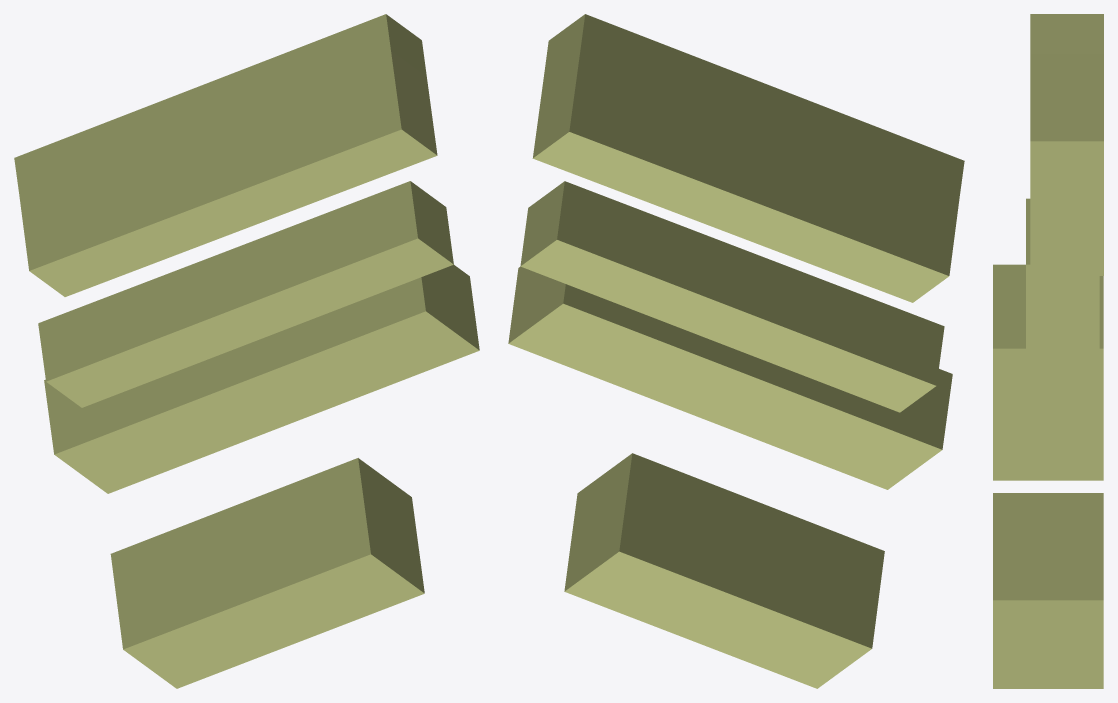
3 renders of one model, left to right at view 1: azimuth 30°, elevation 25°; view 2: azimuth 150°, elevation 25°; view 3: azimuth 270°, elevation 25°, orthographic. The views are drawn at different scales.
Visible parts, largest first — view 1: 0_1_3_2_1_1_1_1_0; view 2: 0_1_3_2_1_1_1_1_0; view 3: 0_1_3_2_1_1_1_1_0.
Boxes of the visible parts, box(x1,y1,x2,y2) form: 0_1_3_2_1_1_1_1_0: box(14, 14, 479, 688); 0_1_3_2_1_1_1_1_0: box(508, 14, 964, 688); 0_1_3_2_1_1_1_1_0: box(993, 14, 1103, 688).
Size of the model in its own units: 39.74 by 52.71 by 9.03.
